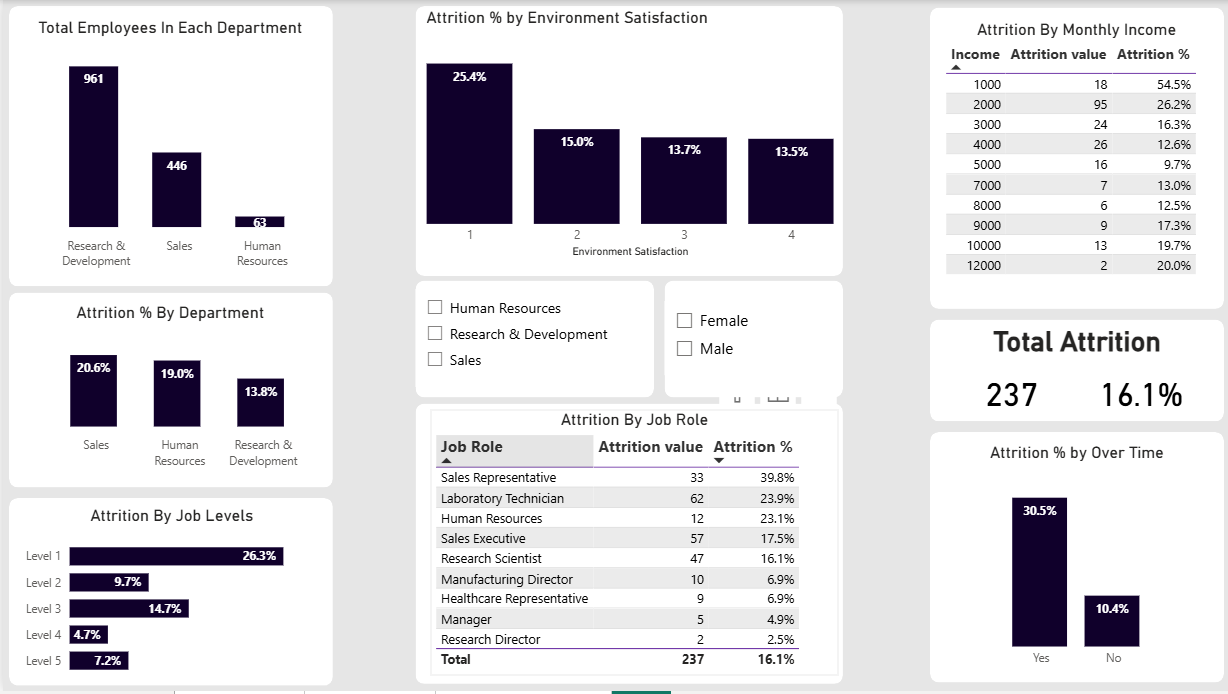

The dashboard page shown, as its layout file describes it:
{"tool":"powerbi","page":{"name":"Attrition ","canvas":[1280,720],"ordinal":0},"visuals":[{"type":"shape","box":[6.3,304.8,337.6,203.2],"z":0},{"type":"shape","box":[429.8,292.3,248.5,121.9],"z":1000},{"type":"shape","box":[6.3,518.9,337.6,195.4],"z":2000},{"type":"shape","box":[429.8,6.3,445.5,281.3],"z":3000},{"type":"shape","box":[429.8,420.4,445.5,292.3],"z":4000},{"type":"shape","box":[965.9,7.8,306.3,314.2],"z":5000},{"type":"shape","box":[965.9,450.1,306.3,261],"z":6000},{"type":"shape","box":[6.3,6.3,337.6,292.3],"z":7000},{"type":"columnChart","title":"Total Employees In Each Department","fields":{"Category":["HR Analytics Data.Department"],"Y":["Dax.Total Employees"]},"box":[10.9,18.8,326.7,268.8],"z":8000},{"type":"shape","box":[965.9,332.9,306.3,106.3],"z":9000},{"type":"cardVisual","title":"Total Attrition","fields":{"Data":["Dax.Attrition value","Dax.Attrition %"]},"box":[978.4,339.2,281.3,93.8],"z":10000},{"type":"columnChart","title":"Attrition % by Over Time","fields":{"Category":["HR Analytics Data.OverTime"],"Y":["Dax.Attrition %"]},"box":[978.4,461.1,281.3,242.3],"z":11000},{"type":"tableEx","title":"Attrition By Job Role","fields":{"Values":["HR Analytics Data.Job Role","Dax.Attrition value","Dax.Attrition %"]},"box":[445.5,426.7,425.1,276.6],"z":12000},{"type":"tableEx","title":"Attrition By Monthly Income","fields":{"Values":["HR Analytics Data.Monthly Income (bins)","Dax.Attrition value","Dax.Attrition %"]},"box":[977,20.8,283.5,285.4],"z":13000},{"type":"columnChart","title":"Attrition % By Department","fields":{"Category":["HR Analytics Data.Department"],"Y":["Dax.Attrition %"]},"box":[10.9,315.7,326.7,179.7],"z":14000},{"type":"columnChart","fields":{"Category":["HR Analytics Data.Work Life Balance","HR Analytics Data.Job Involvement","HR Analytics Data.Job Satisfaction","HR Analytics Data.Environment Satisfaction"],"Y":["Dax.Attrition %"]},"box":[436.1,7.8,434.5,264.1],"z":15000},{"type":"barChart","title":"Attrition By Job Levels","fields":{"Category":["HR Analytics Data.Job Levels"],"Y":["Dax.Attrition %"]},"box":[14.1,526.7,323.5,187.6],"z":16000},{"type":"slicer","fields":{"Values":["HR Analytics Data.Department"]},"box":[429.8,301.7,217.3,101.6],"z":17000},{"type":"shape","box":[689.3,292.3,186,121.9],"z":18000},{"type":"slicer","fields":{"Values":["HR Analytics Data.Gender"]},"box":[689.3,314.2,142.2,76.6],"z":19000}]}

Visuals, with their boxes in screenshot pixels (x1, y1, x2, y2), scaled from the page's 1280x720 canvas onto the 1228x694 screenshot:
shape: x1=6 y1=294 x2=330 y2=490
shape: x1=412 y1=282 x2=651 y2=399
shape: x1=6 y1=500 x2=330 y2=689
shape: x1=412 y1=6 x2=840 y2=277
shape: x1=412 y1=405 x2=840 y2=687
shape: x1=927 y1=8 x2=1221 y2=310
shape: x1=927 y1=434 x2=1221 y2=685
shape: x1=6 y1=6 x2=330 y2=288
"Total Employees In Each Department" columnChart: x1=10 y1=18 x2=324 y2=277
shape: x1=927 y1=321 x2=1221 y2=423
"Total Attrition" cardVisual: x1=939 y1=327 x2=1209 y2=417
"Attrition % by Over Time" columnChart: x1=939 y1=444 x2=1209 y2=678
"Attrition By Job Role" tableEx: x1=427 y1=411 x2=835 y2=678
"Attrition By Monthly Income" tableEx: x1=937 y1=20 x2=1209 y2=295
"Attrition % By Department" columnChart: x1=10 y1=304 x2=324 y2=478
columnChart - HR Analytics Data.Work Life Balance x HR Analytics Data.Job Involvement: x1=418 y1=8 x2=835 y2=262
"Attrition By Job Levels" barChart: x1=14 y1=508 x2=324 y2=689
slicer - HR Analytics Data.Department: x1=412 y1=291 x2=621 y2=389
shape: x1=661 y1=282 x2=840 y2=399
slicer - HR Analytics Data.Gender: x1=661 y1=303 x2=798 y2=377
